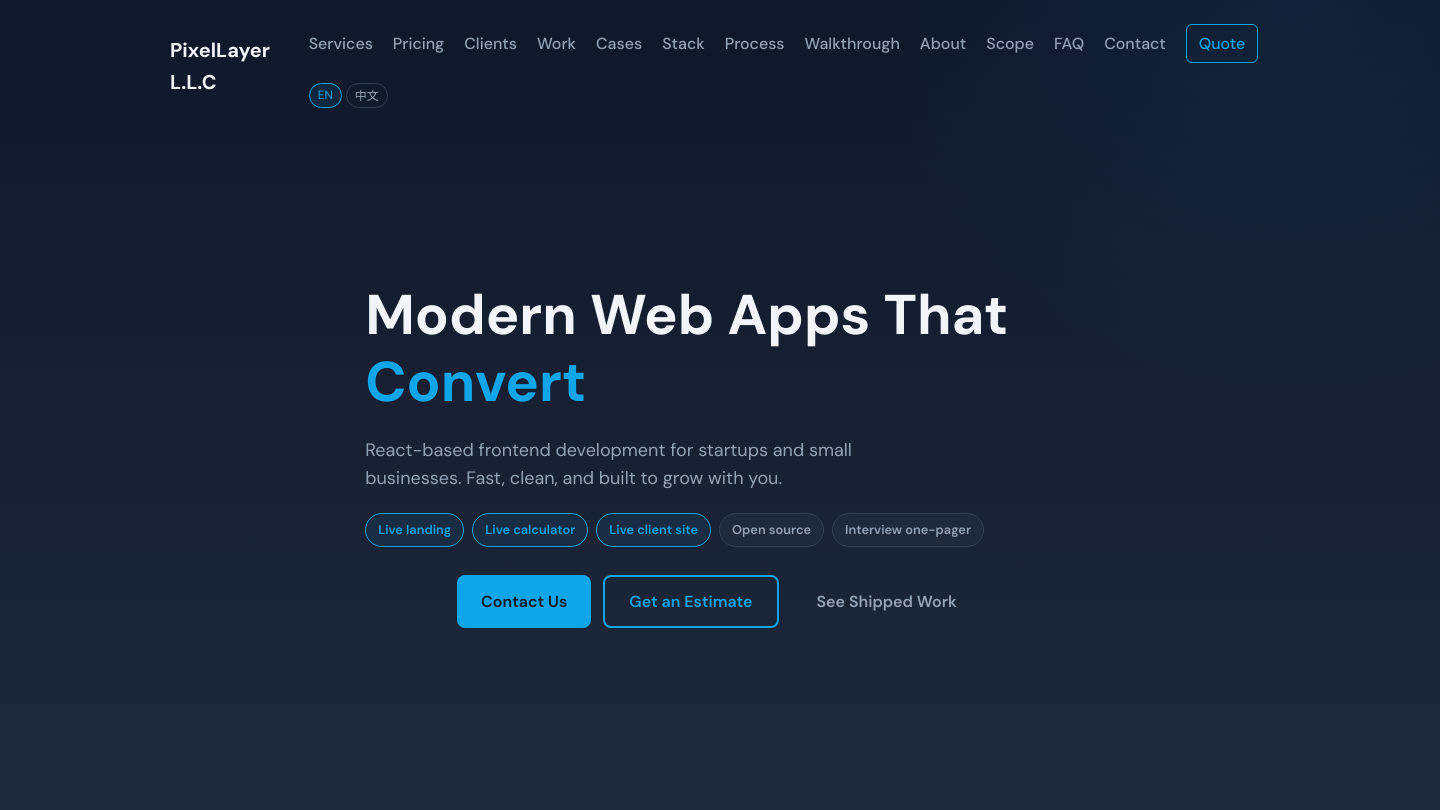
Scenario: App › switches to Chinese and persists
Click the button "中文": coordinates (367, 95) [346,83,388,108]
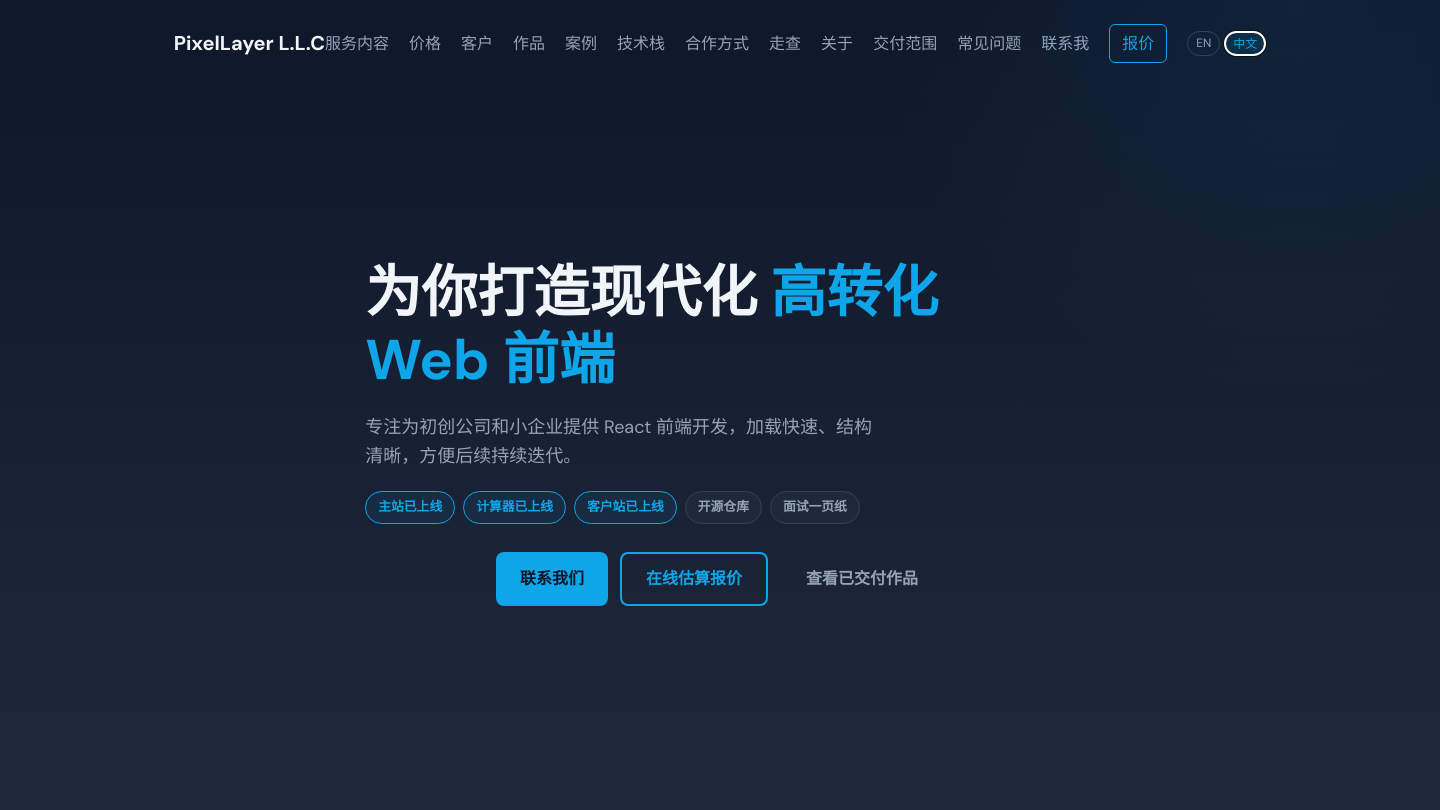
Check: the heading shows "高转化", box [365,256,938,396]
